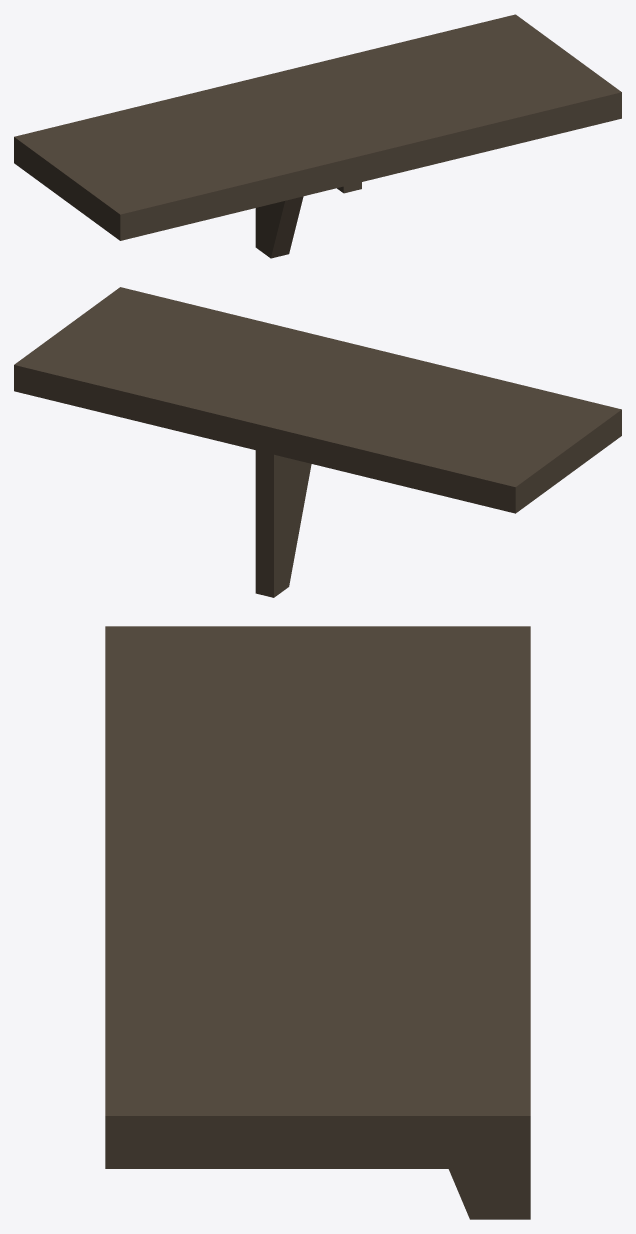
Rendered from WM_WallShelf.fbx.
3 views of the same model, one above another, from view 1: azimuth 30°, elevation 25°; view 2: azimuth 150°, elevation 25°; view 3: azimuth 270°, elevation 25° (orthographic). The views are drawn at different scales.
Parts seen in each view (by area): view 1: Cube_43; view 2: Cube_43; view 3: Cube_43.
Boxes of the visible parts, x1,y1,x2,y2 form: Cube_43: (14,14,621,258); Cube_43: (14,287,621,597); Cube_43: (105,626,530,1219).
Bounding box in the file's own units: 11.11 × 3.59 × 4.08.
